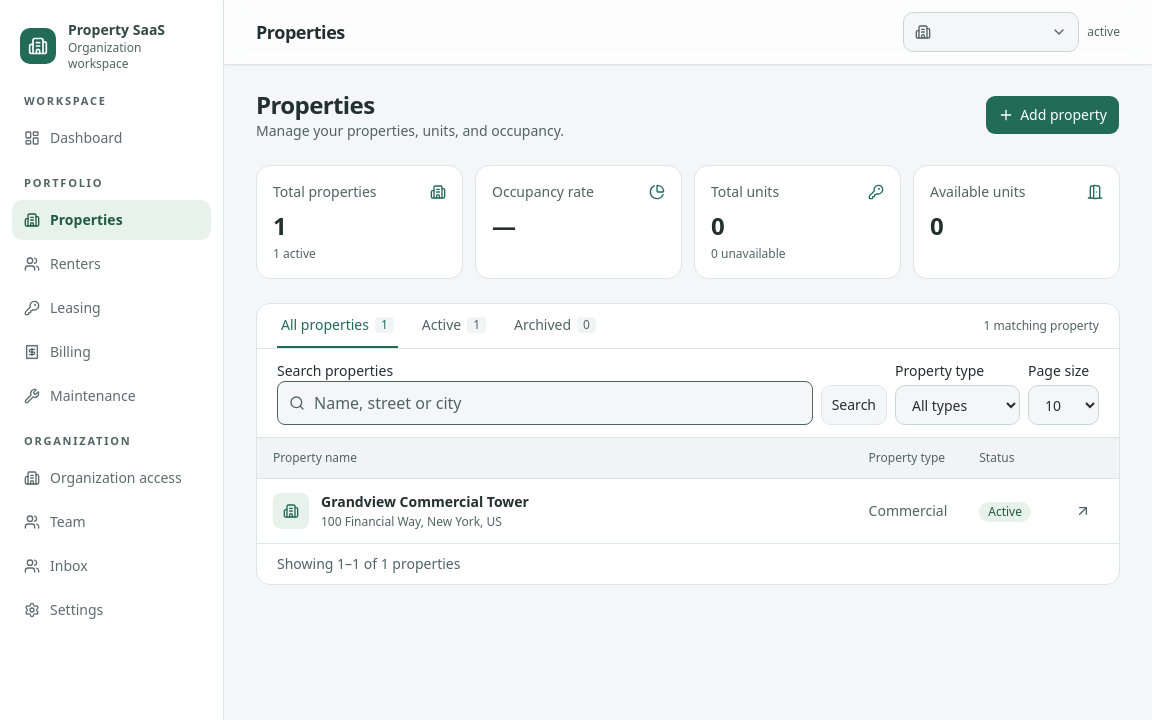
Test: navigates to Billing and marks only that destination active
Click the link "Billing" at (57, 351), box [24,342,91,361]
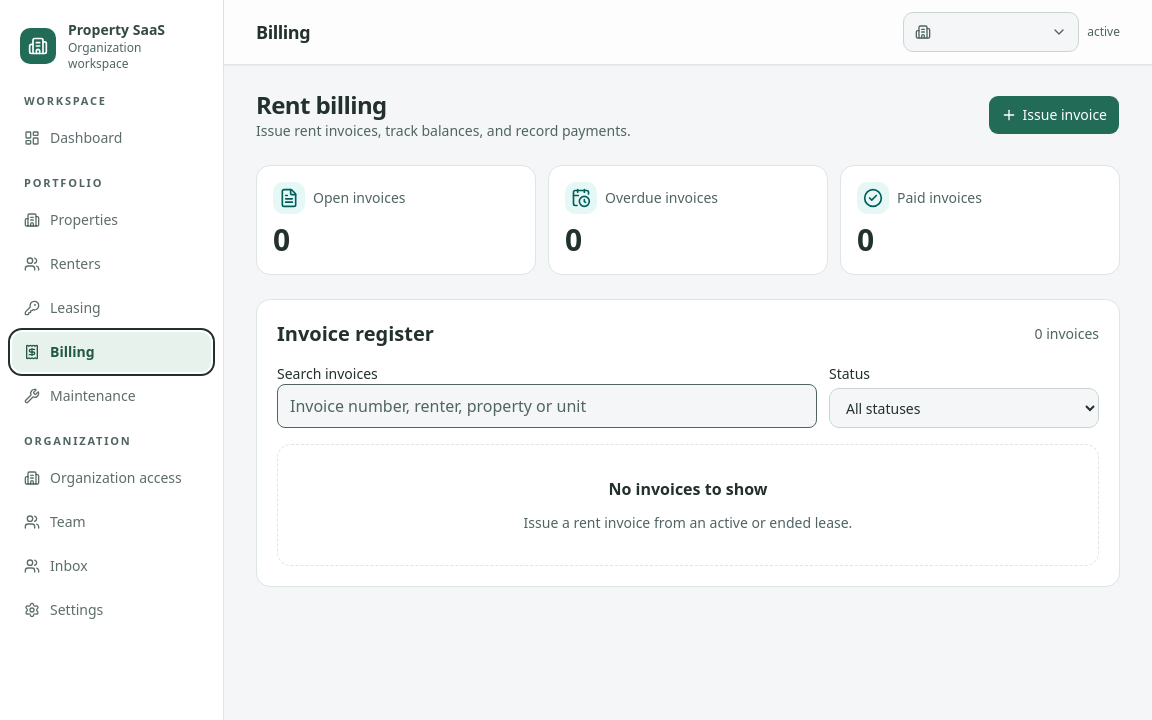
Now the heading "Rent billing" is shown, box [256,88,387,121]
Now the heading "Billing" is shown, box [256,18,310,46]
